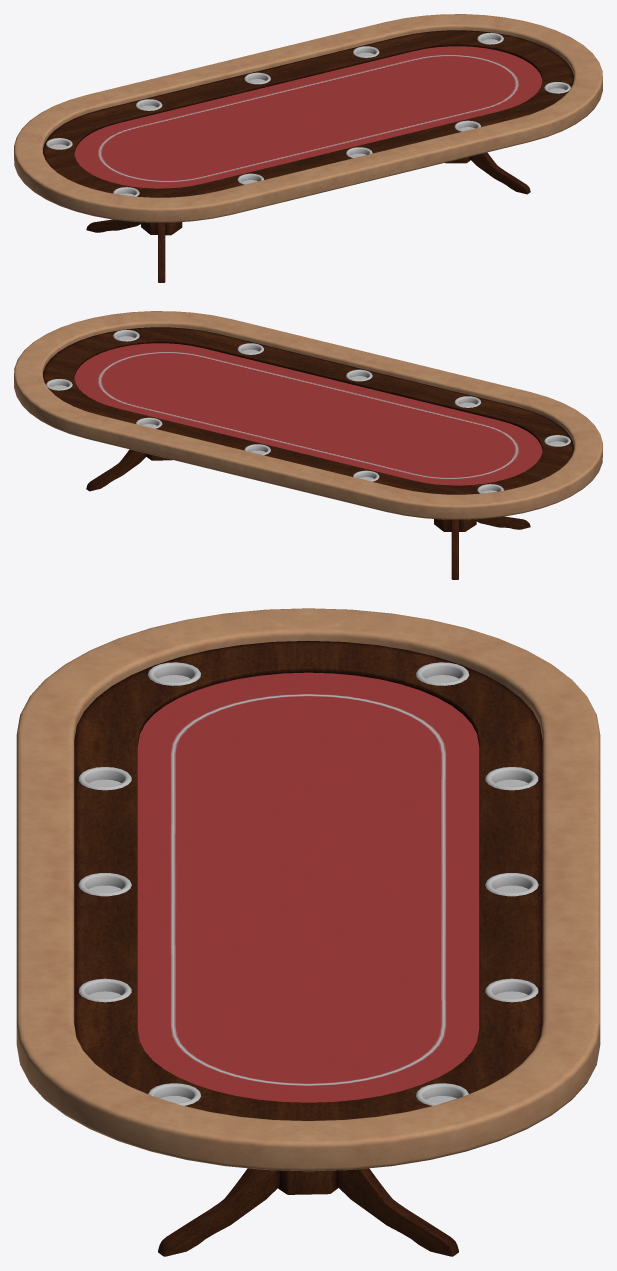
File: PokerTable02_2.FBX
3 renders of one model, top to bottom at view 1: azimuth 30°, elevation 25°; view 2: azimuth 150°, elevation 25°; view 3: azimuth 270°, elevation 25°, orthographic. The views are drawn at different scales.
Visible parts, largest first — view 1: PokerTable02_2; view 2: PokerTable02_2; view 3: PokerTable02_2.
Part boxes in pixels (box(x1,y1,x2,y2)): PokerTable02_2: box(14, 14, 602, 282); PokerTable02_2: box(14, 311, 602, 579); PokerTable02_2: box(16, 608, 600, 1256).
Bounding box in the file's own units: 5282 × 916 × 2425.
